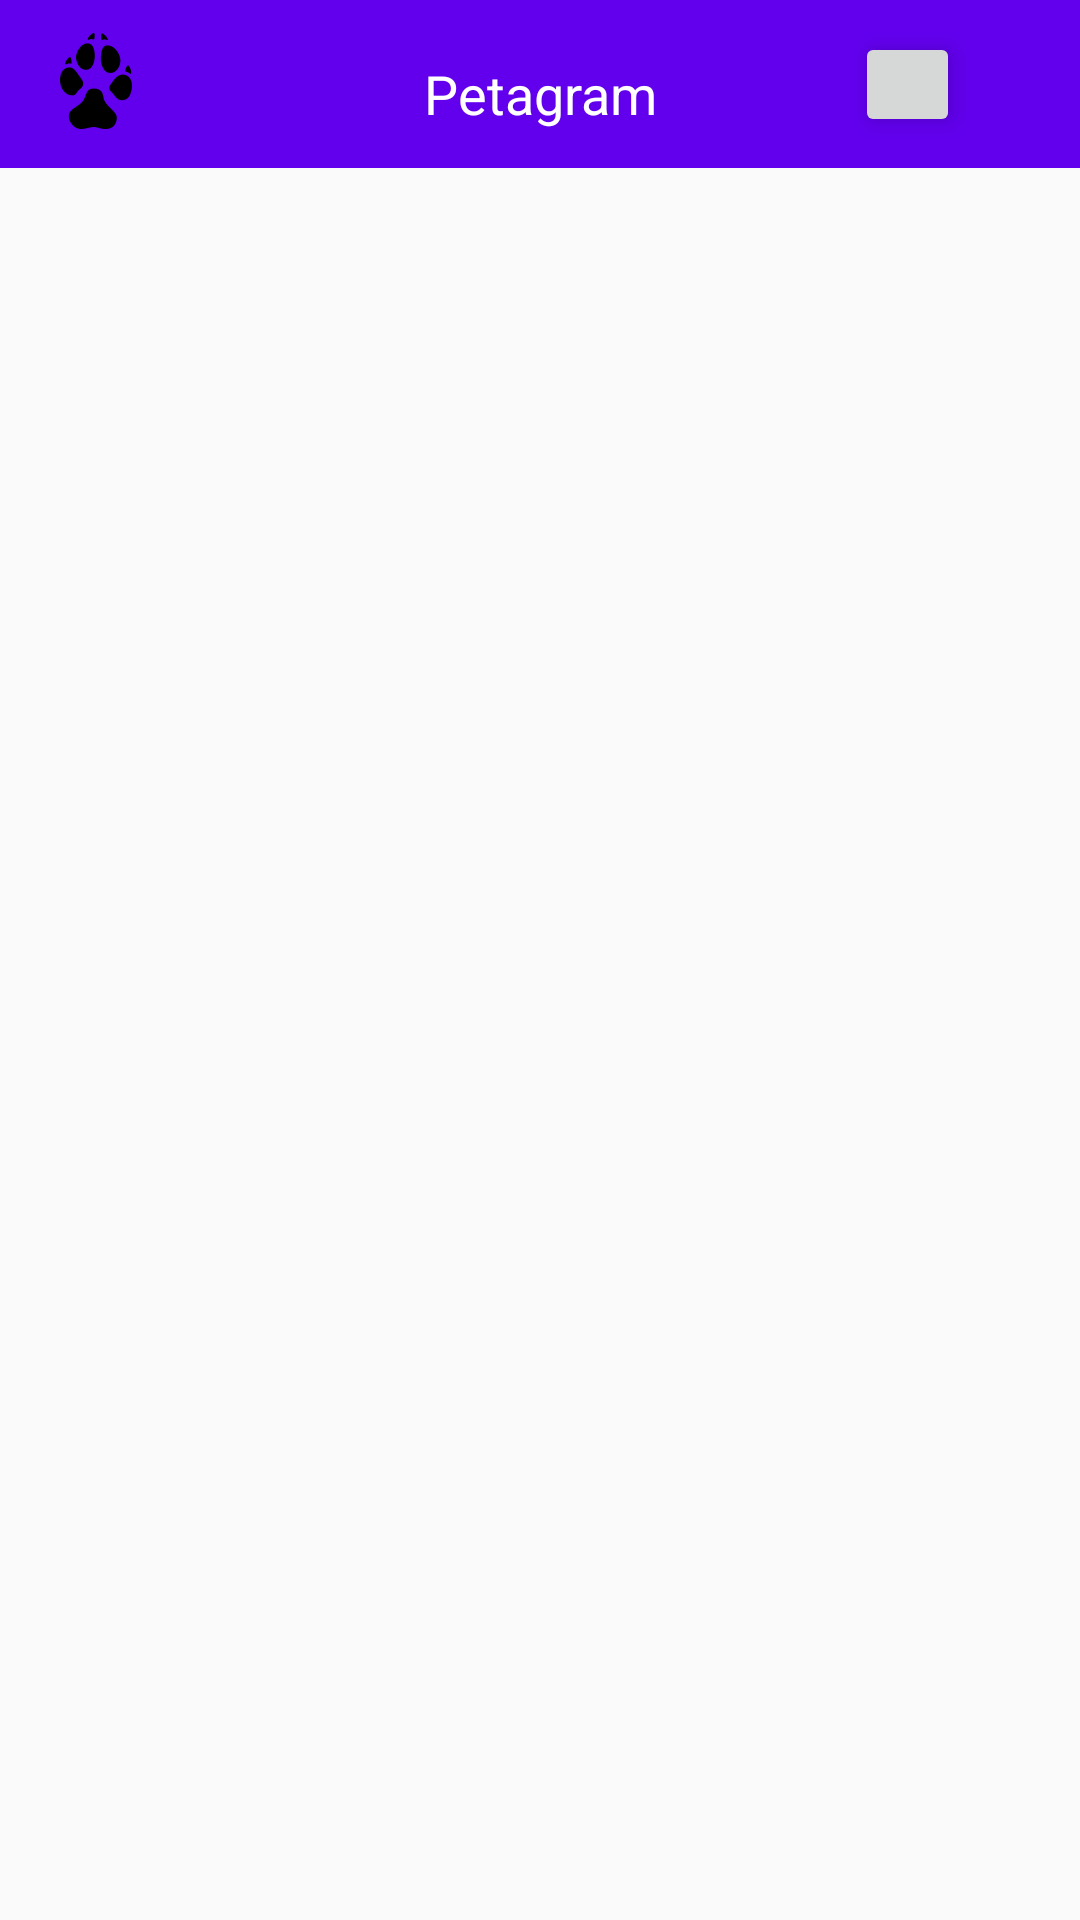

Icon click points for this 1080w x 1920h phone screenshot, format (x,y):
dog paw: (96,81)
